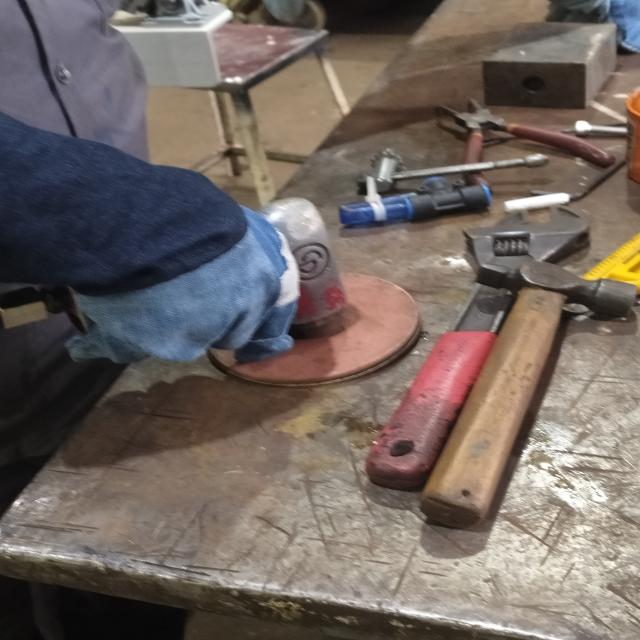Gloves-Detection: (3, 114, 298, 384)
